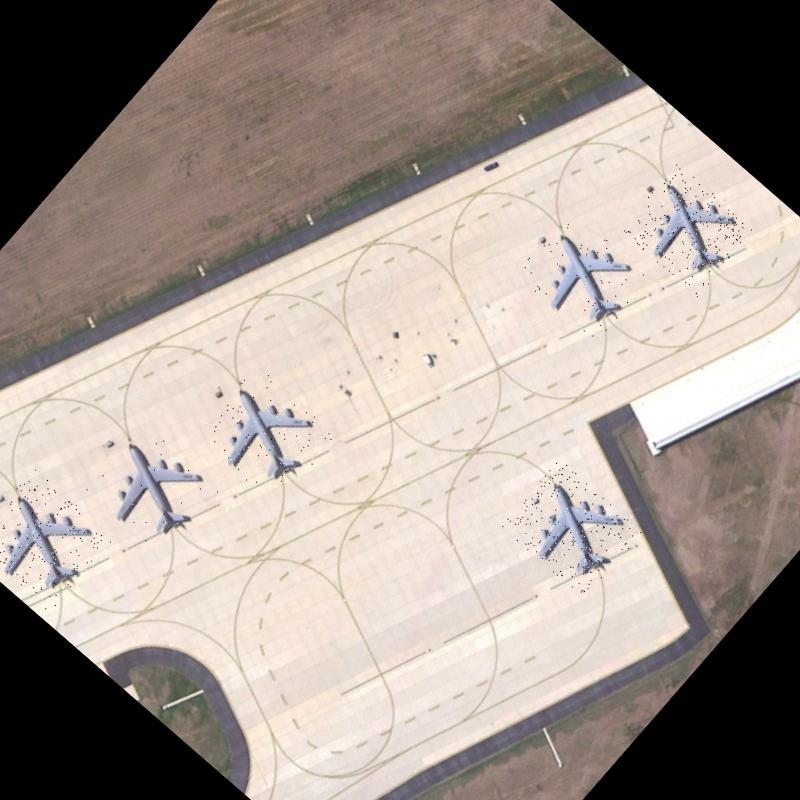A14: (192, 364, 338, 509), (78, 418, 222, 560), (500, 459, 643, 600), (511, 209, 652, 350), (620, 163, 756, 298), (0, 469, 114, 613)
